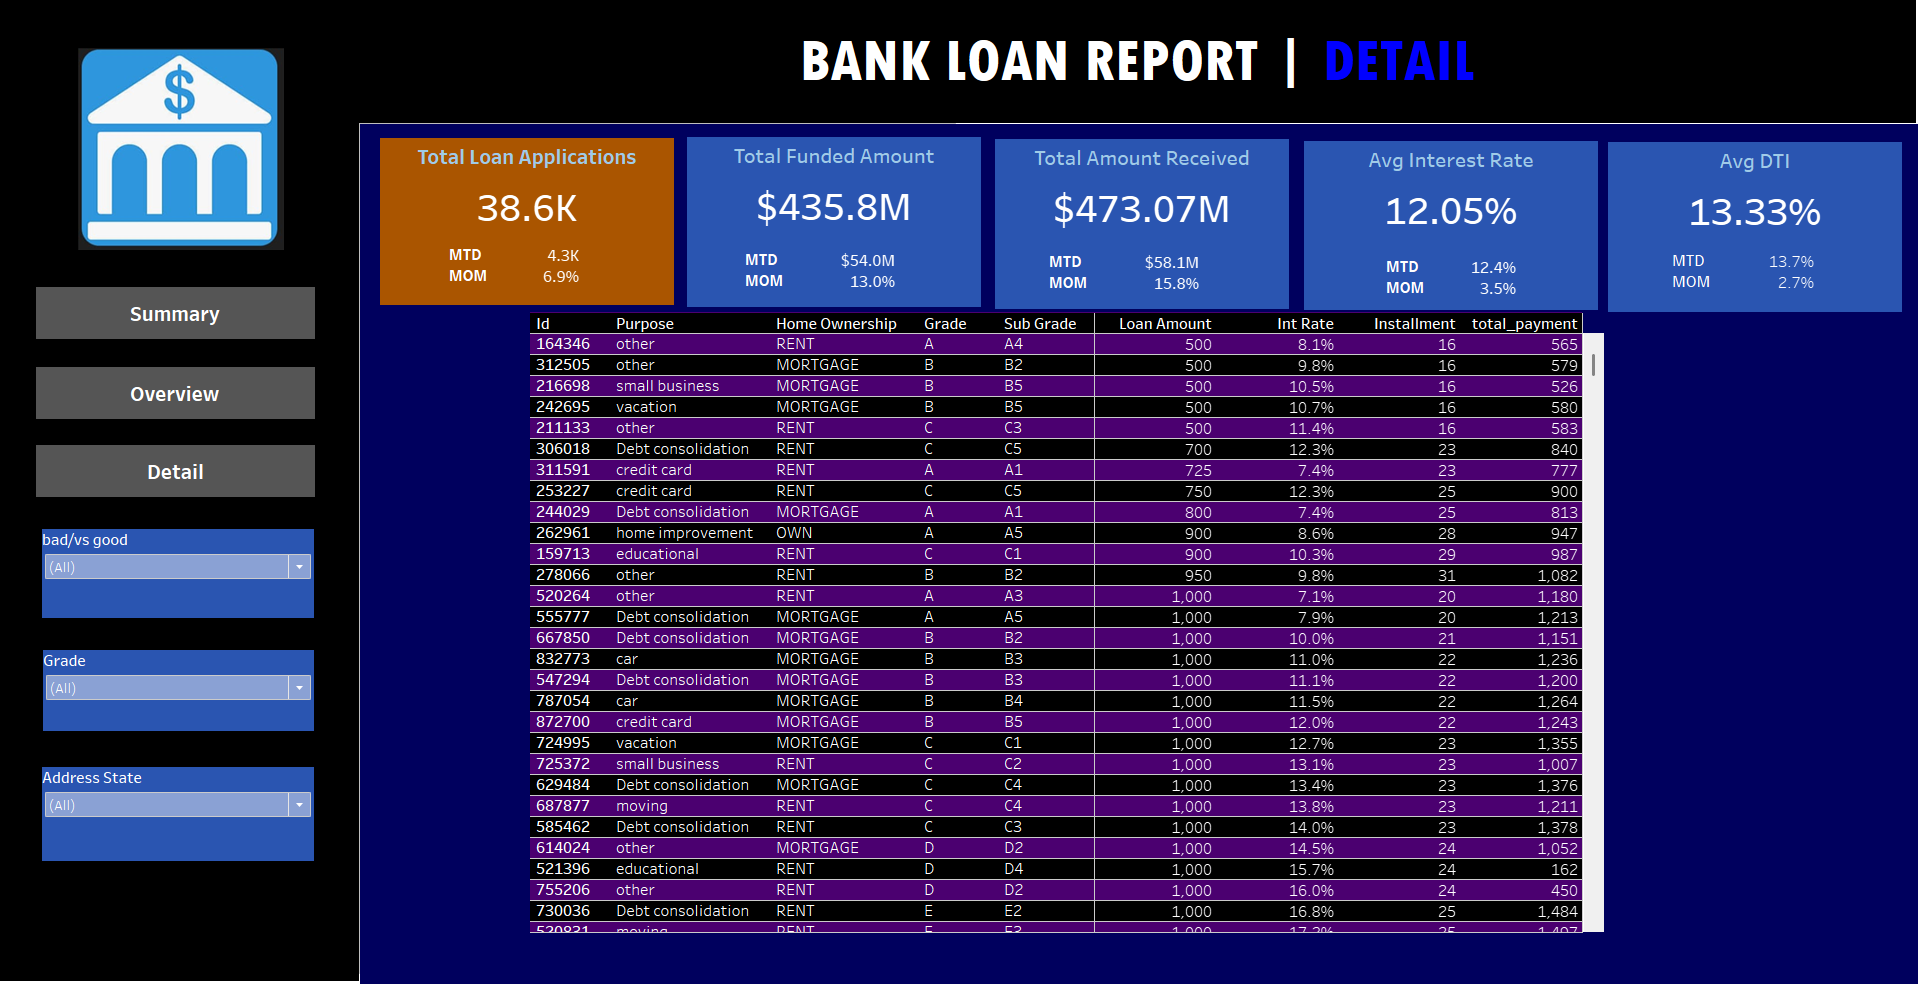

This screenshot's page, from the dashboard's own definition file:
{"tool":"tableau","page":{"name":"detail ","canvas":[1000,1000],"units":"permille","ordinal":0},"visuals":[{"type":"blank","box":[0,5,187.1,990]},{"type":"text","box":[187.1,5,811.1,126.1]},{"type":"dashboard-object","box":[4.2,8.1,495.8,983.9]},{"type":"image","box":[500,8.1,495.8,983.9]},{"type":"image","param":"Image/WhatsApp Image 2025-11-09 at 4.00.53 PM.jpeg","box":[30.8,54.9,127.3,203.5]},{"type":"worksheet","title":"Total Funded Amount","mark":"Automatic","box":[357.9,144.8,153.3,171]},{"type":"worksheet","title":"Total Loan Applications","mark":"Automatic","box":[198,146.1,153.3,168.5]},{"type":"worksheet","title":"Total Amount Received","mark":"Automatic","box":[518.4,147.3,153.3,171]},{"type":"worksheet","title":"average interest rate","mark":"Automatic","box":[678.9,148.6,153.3,171]},{"type":"worksheet","title":"average dti","mark":"Automatic","box":[837.7,149.8,153.3,171]},{"type":"worksheet","title":"CA MTD","mark":"Automatic","box":[230.5,237.2,88.7,84.9]},{"type":"worksheet","title":"FA MTD","mark":"Automatic","box":[385,242.2,102.6,106.1]},{"type":"worksheet","title":"Sheet 31","mark":"Automatic","box":[867.8,243.5,111,106.1]},{"type":"worksheet","title":"RA MTD","mark":"Automatic","box":[543.1,244.7,136.4,136.1]},{"type":"worksheet","title":"IA","mark":"Automatic","box":[718.8,249.7,152.1,154.8]},{"type":"dashboard-object","box":[18.7,295.9,145.4,52.4]},{"type":"dashboard-object","box":[18.7,377,145.4,52.4]},{"type":"dashboard-object","box":[18.7,455.7,145.4,52.4]},{"type":"filter","title":"Total Amount Received","param":"[federated.1su8ush0cxf9is14s6m4o15ftt9e].[none:Calculation_1176846881310265344:n","box":[21.7,539.3,141.8,89.9]},{"type":"filter","title":"Total Amount Received","param":"[federated.1su8ush0cxf9is14s6m4o15ftt9e].[none:grade:nk]","box":[22.3,661.7,141.2,81.2]},{"type":"filter","title":"Total Amount Received","param":"[federated.1su8ush0cxf9is14s6m4o15ftt9e].[none:address_state:nk]","box":[21.7,779,141.8,94.9]}]}

Visuals, with their boxes on the dashboard's canvas, which has no fixed pixel size, in thousandths of its width and height (x1, y1, x2, y2). These are canvas units, not pixel positions in the 1919x984 screenshot, which may show the page scaled, cropped or inside an application window:
blank: <box>0,5,187,995</box>
text: <box>187,5,998,131</box>
dashboard-object: <box>4,8,500,992</box>
image: <box>500,8,996,992</box>
image: <box>31,55,158,258</box>
"Total Funded Amount" worksheet: <box>358,145,511,316</box>
"Total Loan Applications" worksheet: <box>198,146,351,315</box>
"Total Amount Received" worksheet: <box>518,147,672,318</box>
"average interest rate" worksheet: <box>679,149,832,320</box>
"average dti" worksheet: <box>838,150,991,321</box>
"CA MTD" worksheet: <box>230,237,319,322</box>
"FA MTD" worksheet: <box>385,242,488,348</box>
"Sheet 31" worksheet: <box>868,244,979,350</box>
"RA MTD" worksheet: <box>543,245,680,381</box>
"IA" worksheet: <box>719,250,871,404</box>
dashboard-object: <box>19,296,164,348</box>
dashboard-object: <box>19,377,164,429</box>
dashboard-object: <box>19,456,164,508</box>
"Total Amount Received" filter: <box>22,539,164,629</box>
"Total Amount Received" filter: <box>22,662,164,743</box>
"Total Amount Received" filter: <box>22,779,164,874</box>
